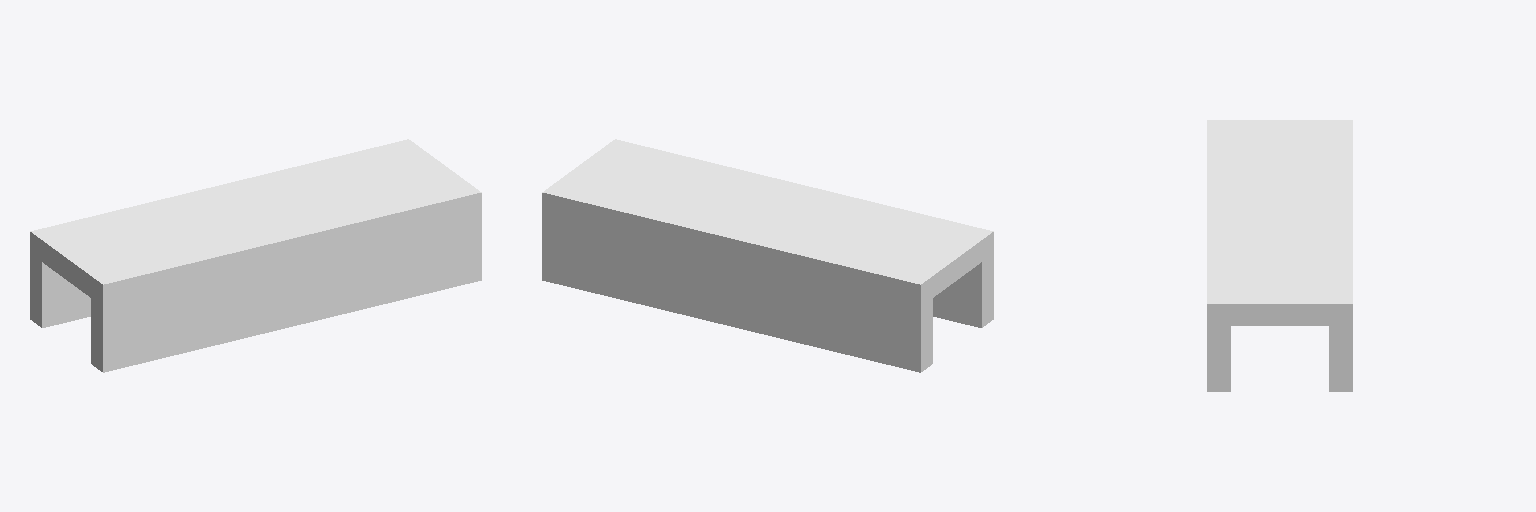
File: Log1.obj
The picture shows the model from 3 angles: view 1: azimuth 30°, elevation 25°; view 2: azimuth 150°, elevation 25°; view 3: azimuth 270°, elevation 25°; orthographic projection.
Parts seen in each view (by area): view 1: object 1; view 2: object 1; view 3: object 1.
Part boxes in pixels (x1,y1,x2,y2): object 1: (30, 139, 481, 372); object 1: (542, 139, 993, 372); object 1: (1207, 120, 1352, 391).
Size of the model in its own units: 1.8 by 0.4 by 0.6.